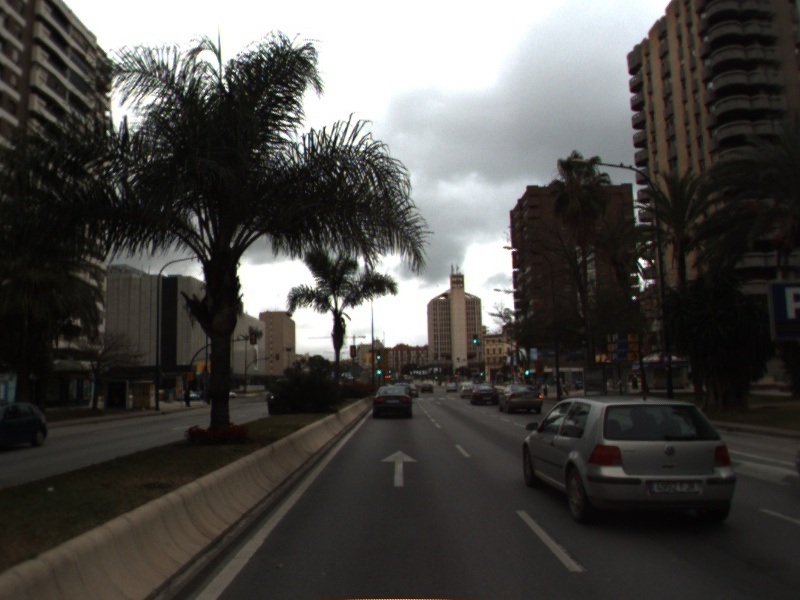STRAIGHT: (378, 447, 420, 489)
STRAIGHT_RIGHT: (729, 457, 800, 489)
